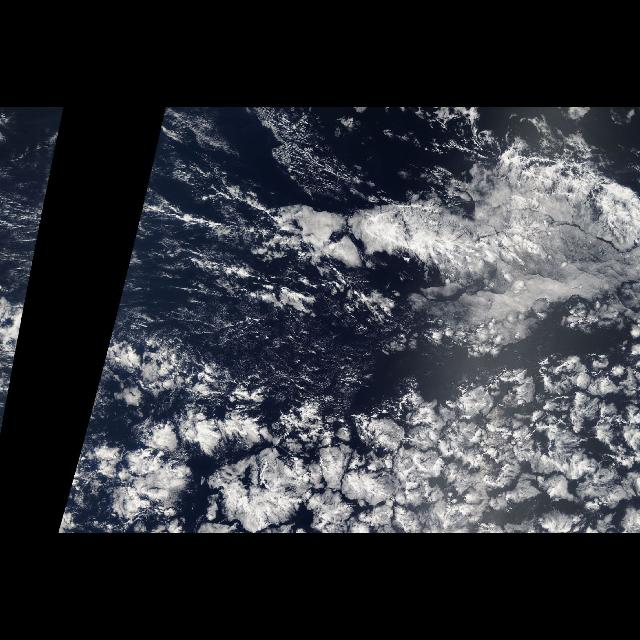Flower: (116, 359, 640, 533)
